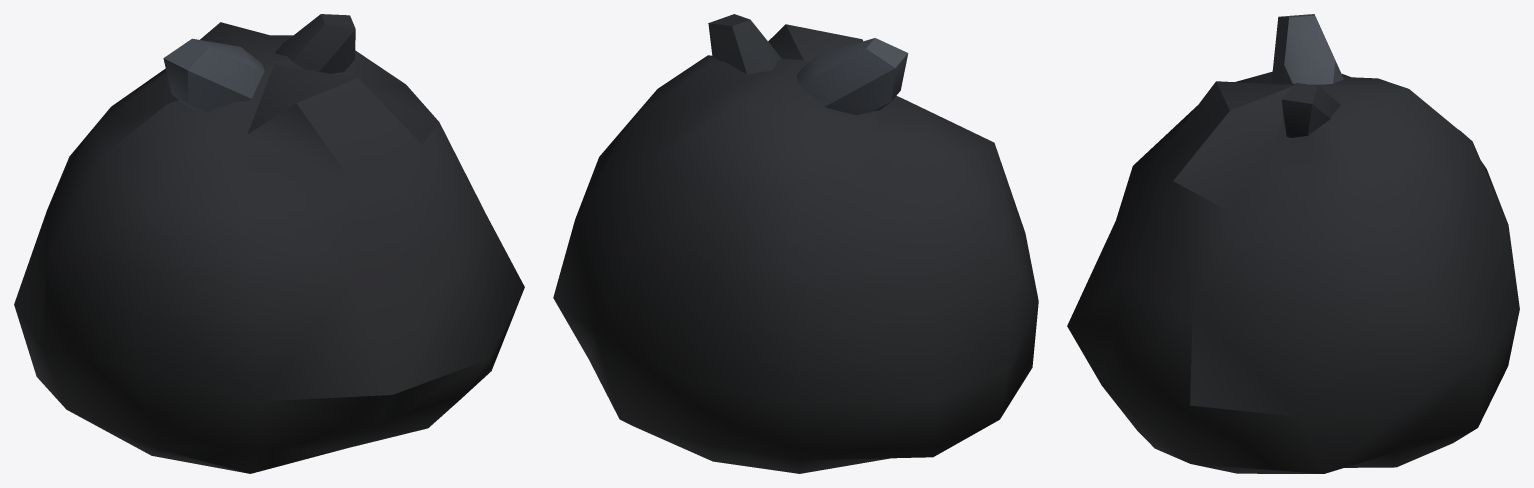
File: 05a_sac_poubelle.fbx
The picture shows the model from 3 angles, left to right: view 1: azimuth 30°, elevation 25°; view 2: azimuth 150°, elevation 25°; view 3: azimuth 270°, elevation 25°; orthographic projection. The views are drawn at different scales.
Parts seen in each view (by area): view 1: Sac; view 2: Sac; view 3: Sac.
Boxes of the visible parts, x1,y1,x2,y2 form: Sac: (14, 14, 524, 473); Sac: (553, 14, 1038, 473); Sac: (1067, 14, 1519, 473).
Size of the model in its own units: 0.42 by 0.364 by 0.392.
1 material, 1 textured.
